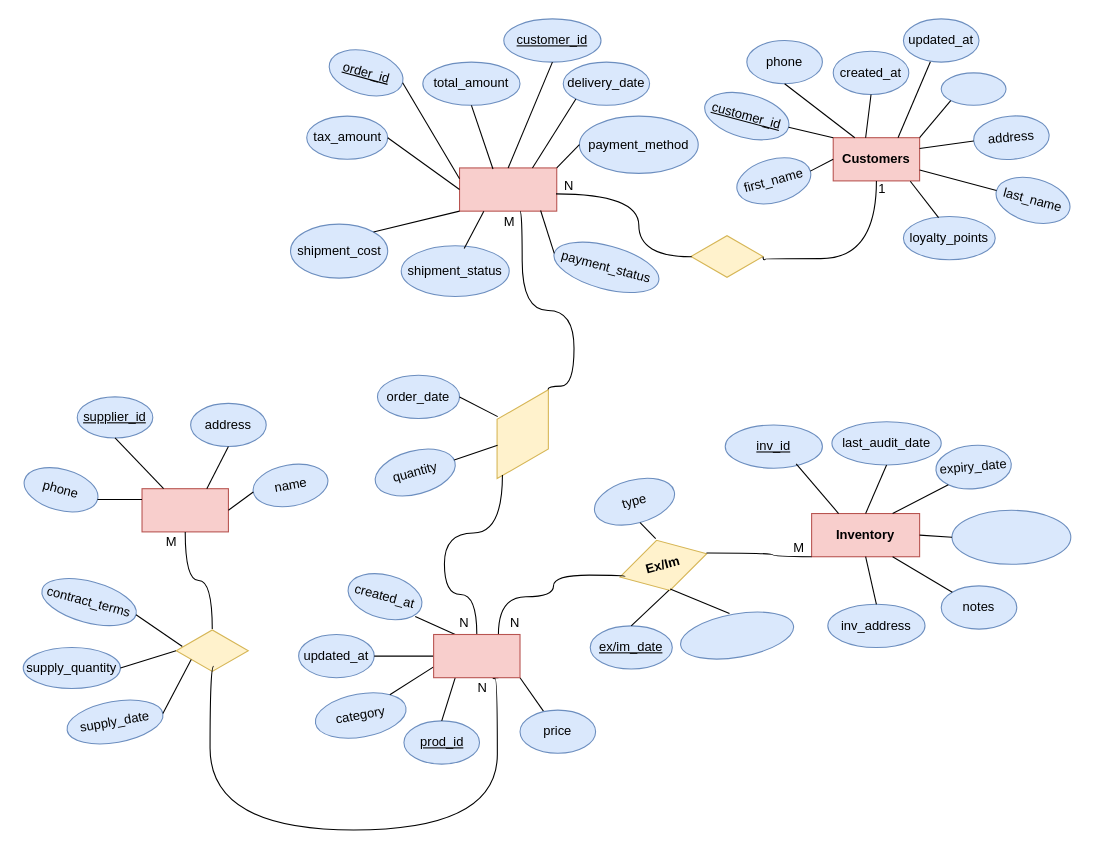
This 1094x849 diagram has some shape labels left out. The shapes that lost their labels are listed below. From the top down, each one's centre as x and y in pixels, then its label:
the point at 973,88: email
the point at 507,189: Orders
the point at 726,256: place
the point at 522,433: contains
the point at 184,510: Suppliers
the point at 1011,536: current_quantity
the point at 211,650: supply
the point at 476,655: Products
the point at 736,635: ex/im_quantity
